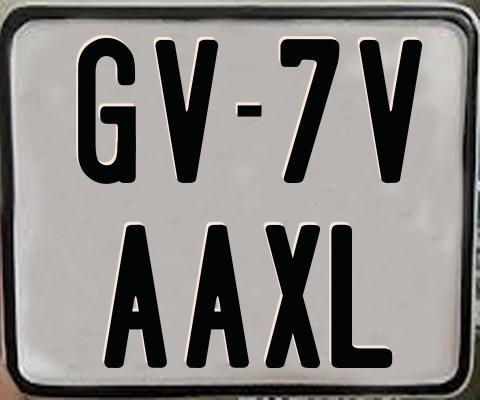7: (279, 38, 339, 185)
A: (185, 224, 254, 370), (101, 223, 168, 366)
G: (77, 37, 139, 186)
L: (331, 224, 397, 371)
V: (155, 37, 221, 184), (356, 39, 419, 187)
X: (263, 224, 319, 367)
